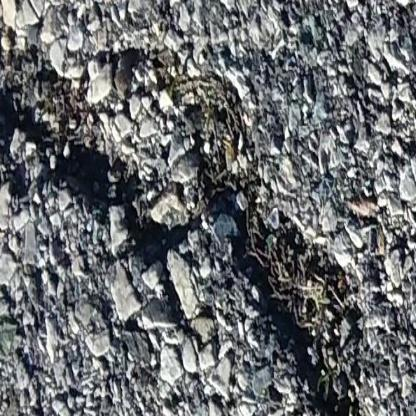Cracks: (0, 17, 370, 416)
